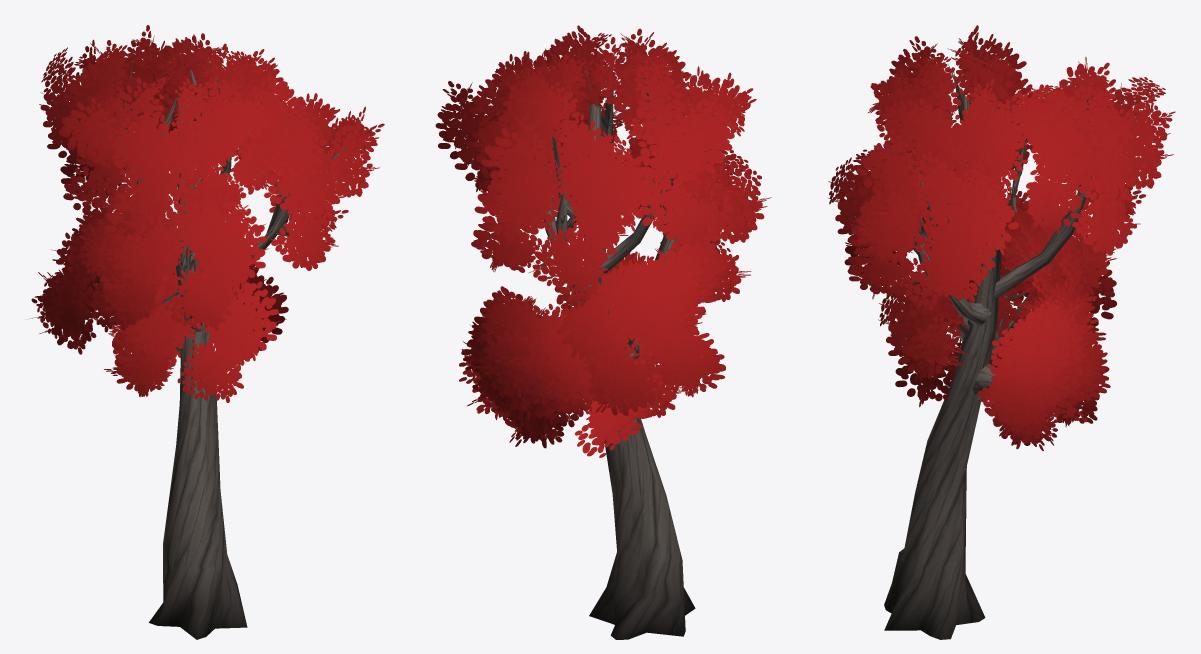
The model's file is tree-late-5-mature.glb.
3 renders of one model, left to right at view 1: azimuth 30°, elevation 25°; view 2: azimuth 150°, elevation 25°; view 3: azimuth 270°, elevation 25°, orthographic. The views are drawn at different scales.
Visible parts, largest first — view 1: TwistedTree_5; view 2: TwistedTree_5; view 3: TwistedTree_5.
Boxes of the visible parts, bbox=[...] form: TwistedTree_5: bbox=[29, 25, 384, 639]; TwistedTree_5: bbox=[435, 25, 771, 639]; TwistedTree_5: bbox=[827, 25, 1175, 639].
Size of the model in its own units: 4.09 by 6.61 by 3.92.
2 materials, 2 textured.
